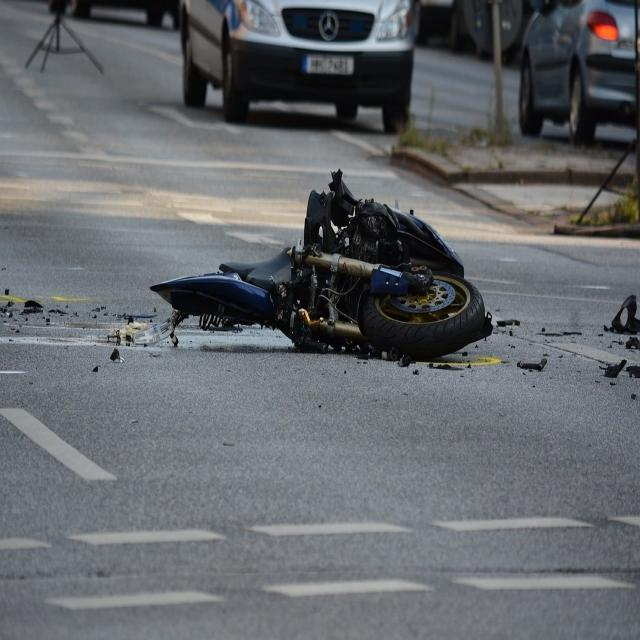accident: (150, 169, 506, 370)
